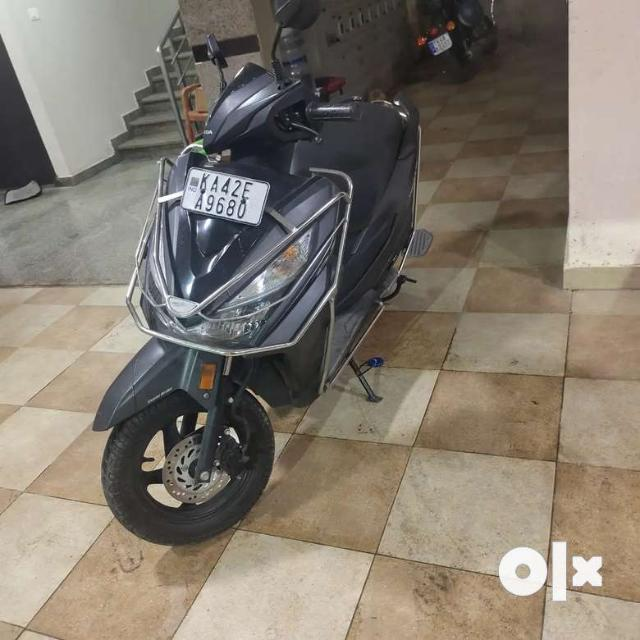Indian_Number_Plate: (182, 167, 271, 225)
